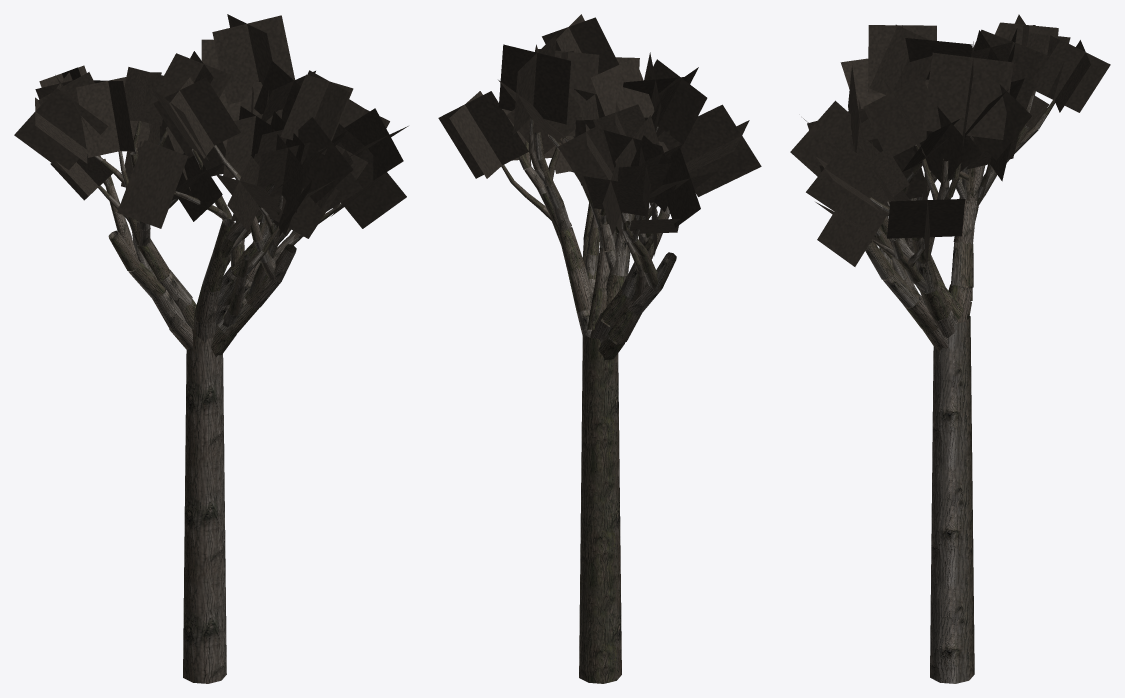
Rendered from S1U_Tree_Pollard.fbx.
3 views of the same model, side by side, from view 1: azimuth 30°, elevation 25°; view 2: azimuth 150°, elevation 25°; view 3: azimuth 270°, elevation 25° (orthographic). The views are drawn at different scales.
Visible parts, largest first — view 1: S1U_Tree_Pollard; view 2: S1U_Tree_Pollard; view 3: S1U_Tree_Pollard.
Boxes of the visible parts, left/top/right/bottom form: S1U_Tree_Pollard: left=14, top=14, right=408, bottom=683; S1U_Tree_Pollard: left=438, top=14, right=761, bottom=683; S1U_Tree_Pollard: left=790, top=14, right=1110, bottom=683.
Size of the model in its own units: 4.86 by 9.15 by 4.1.
